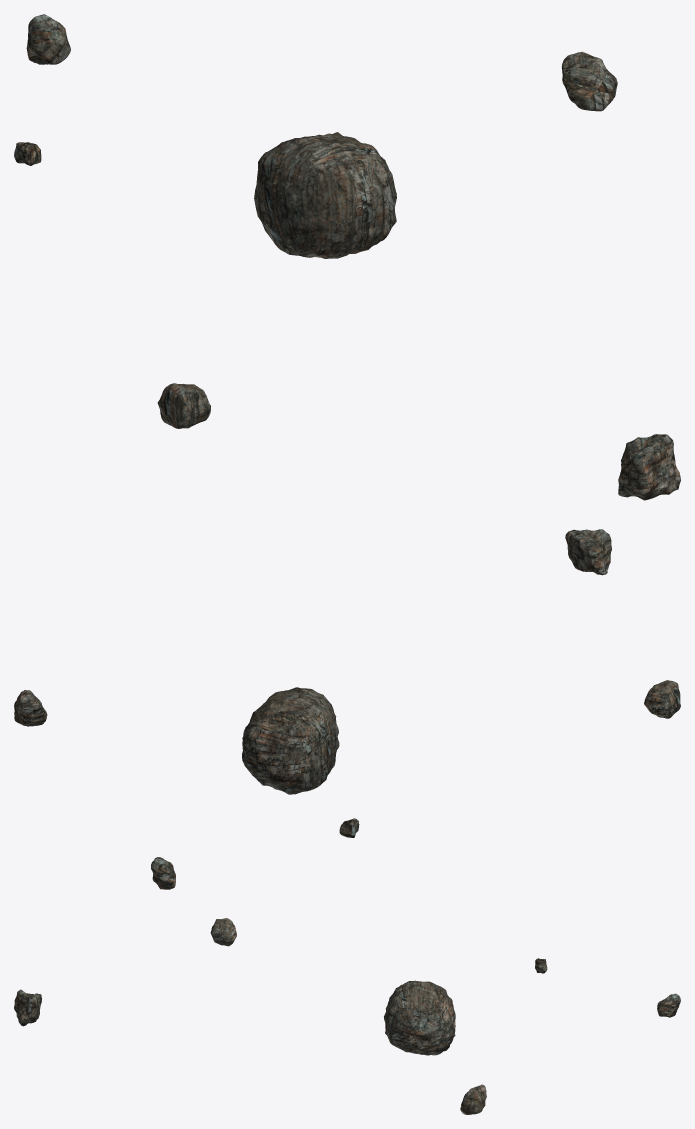
The model's file is zonadinosaurios piedrotas .fbx.
The picture shows the model from 3 angles, top to bottom: view 1: azimuth 30°, elevation 25°; view 2: azimuth 150°, elevation 25°; view 3: azimuth 270°, elevation 25°; orthographic projection. The views are drawn at different scales.
Visible parts, largest first — view 1: rock; view 2: rock; view 3: rock.
Boxes of the visible parts, x1=… form: rock: x1=14, y1=14, x2=680, y2=500; rock: x1=14, y1=529, x2=680, y2=889; rock: x1=14, y1=918, x2=680, y2=1114.
Bounding box in the file's own units: 4586 × 773 × 7227.
1 material, 1 textured.
